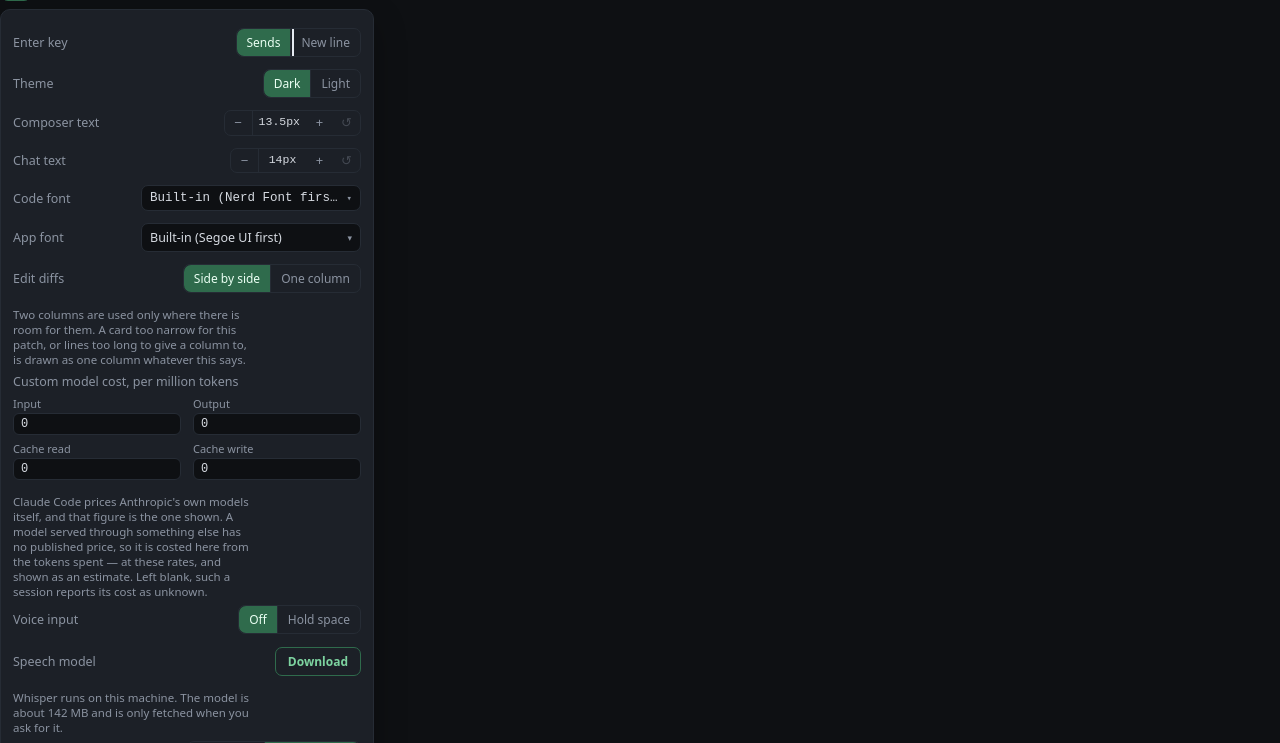
Test: SettingsMenu › shows which section a family came from
The image size is (1280, 743).
Step 1. Click the dropdown named "App font" → {"x": 251, "y": 238}, box [141,223,361,252]
(page scrolled)
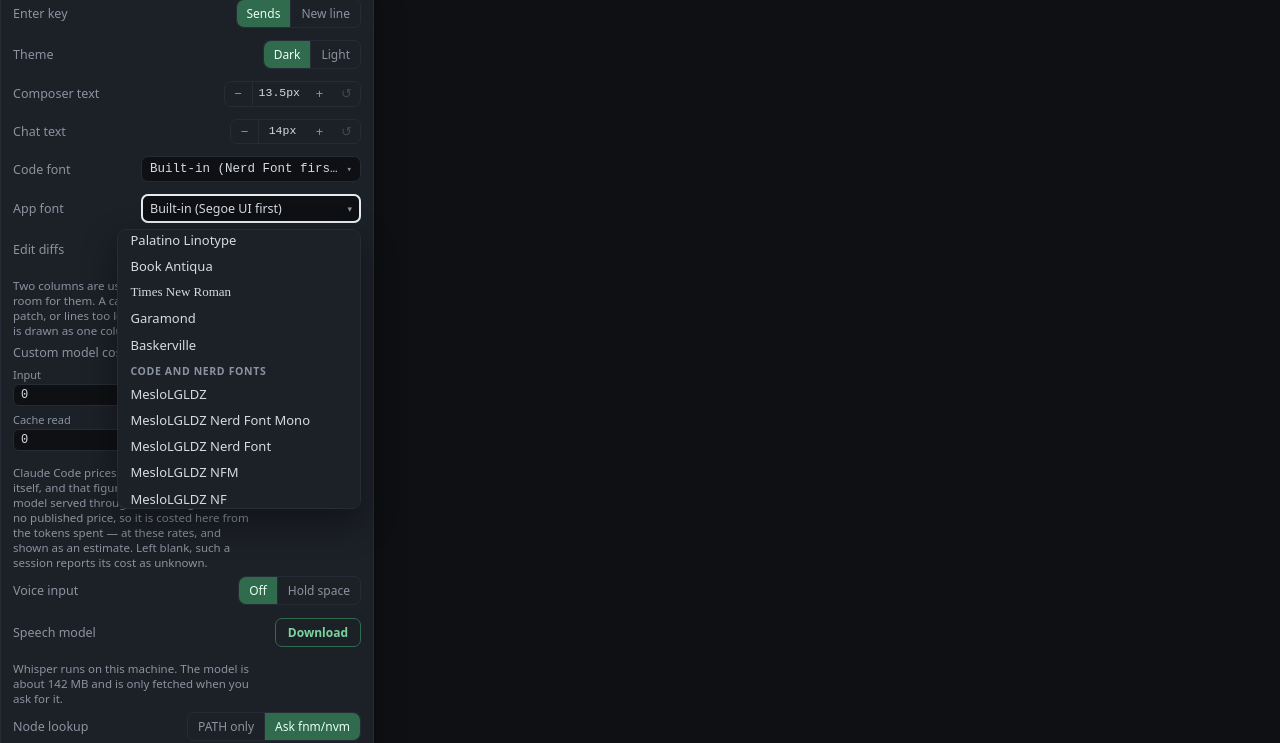
Result: the text "Code and Nerd Fonts" is shown at [130,364,266,378]
